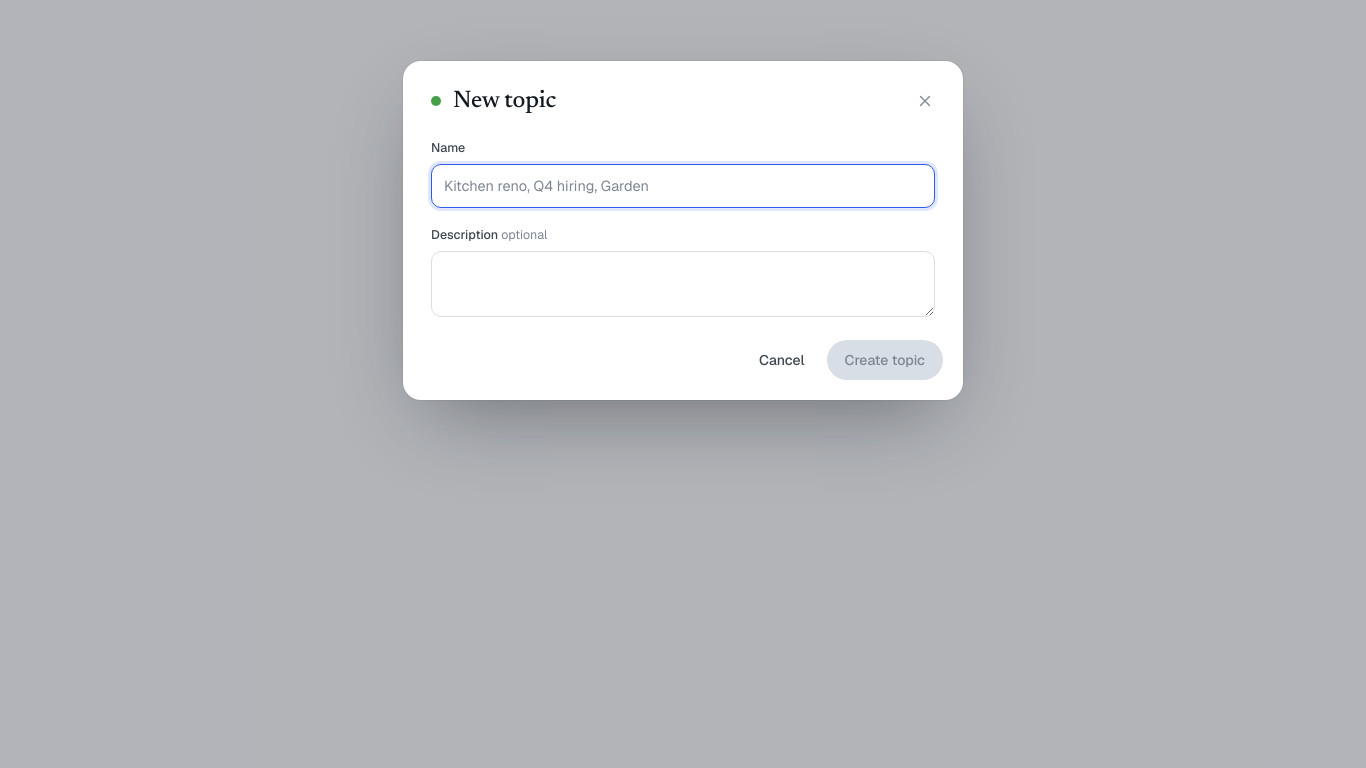
it: NewTopicDialog › shows a taken name inline, including one that differs only by case
Type "garden" into the field labelled "Name" at [683, 186], box [431, 164, 935, 208]
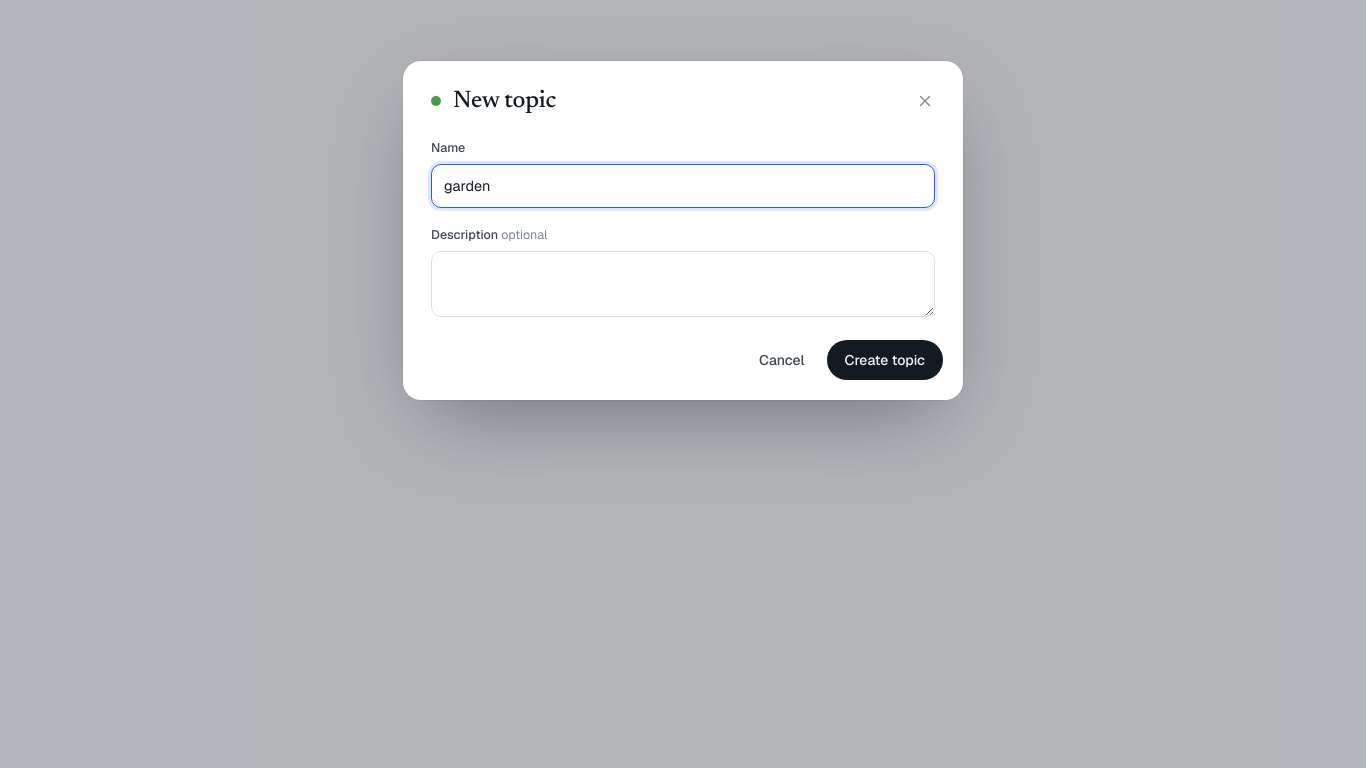
Click the button "Create topic" at [885, 360], box [826, 340, 943, 380]
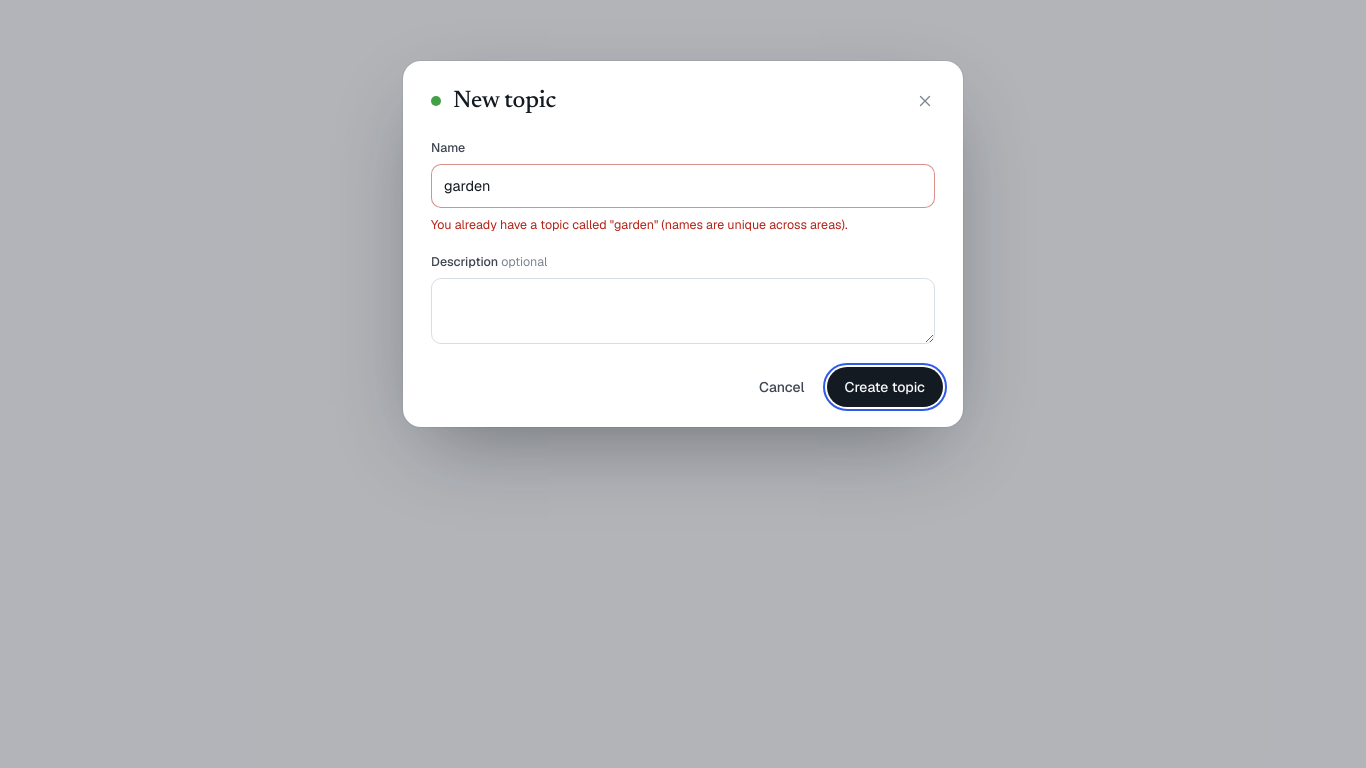
Check: the text "You already have a topic called \"garden\" (names are unique across areas)." is shown, box [431, 216, 847, 233]
